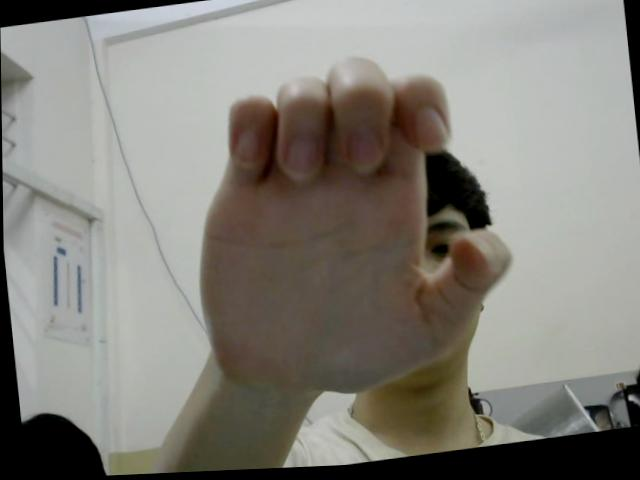E: (174, 37, 522, 417)
